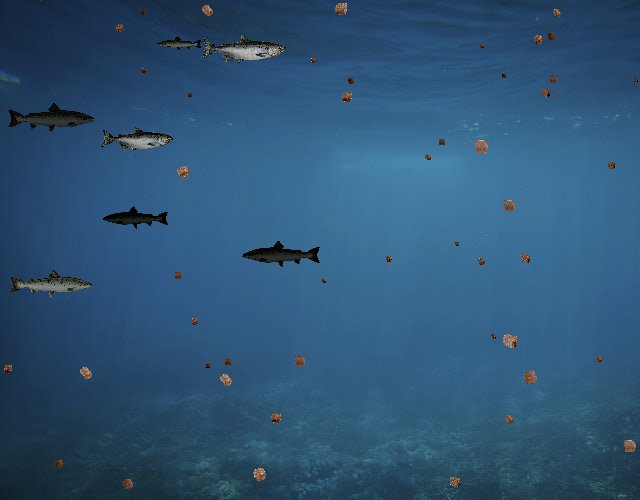Fish: (6, 102, 96, 134), (8, 268, 94, 299), (200, 34, 286, 65), (241, 240, 322, 269), (100, 127, 173, 153), (102, 205, 170, 230), (156, 35, 203, 52)
Pellet: (467, 133, 495, 161), (497, 193, 521, 217), (195, 0, 219, 23), (499, 409, 519, 429), (528, 29, 548, 49), (307, 54, 320, 67), (452, 238, 462, 248)
